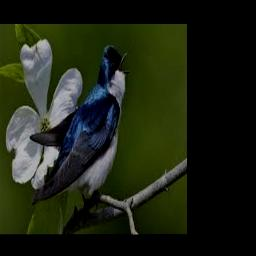Swallow: (30, 44, 130, 209)
